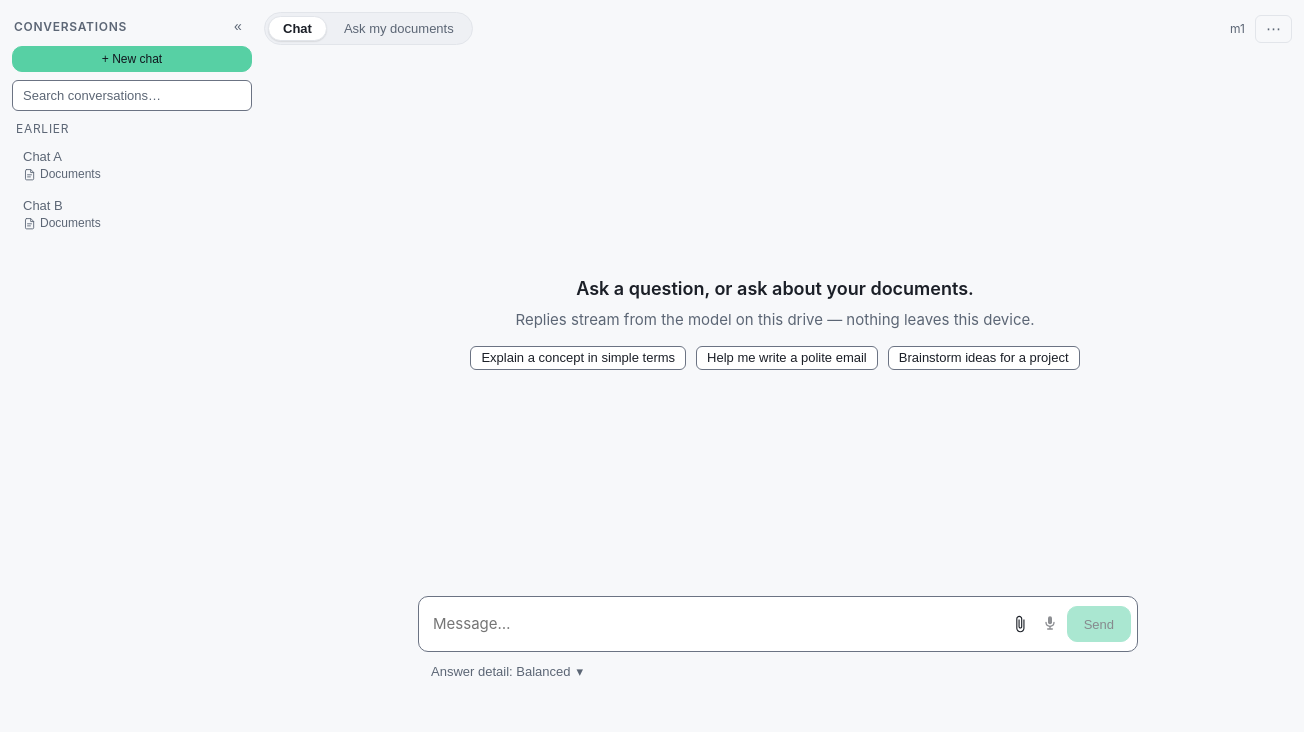
Test: ChatScreen — per-run store gating (SKA-6) › a run in another conversation NEVER renders its result row in the active conversation
Click the text "Chat A": x=42, y=156 x1=23 y1=149 x2=62 y2=164
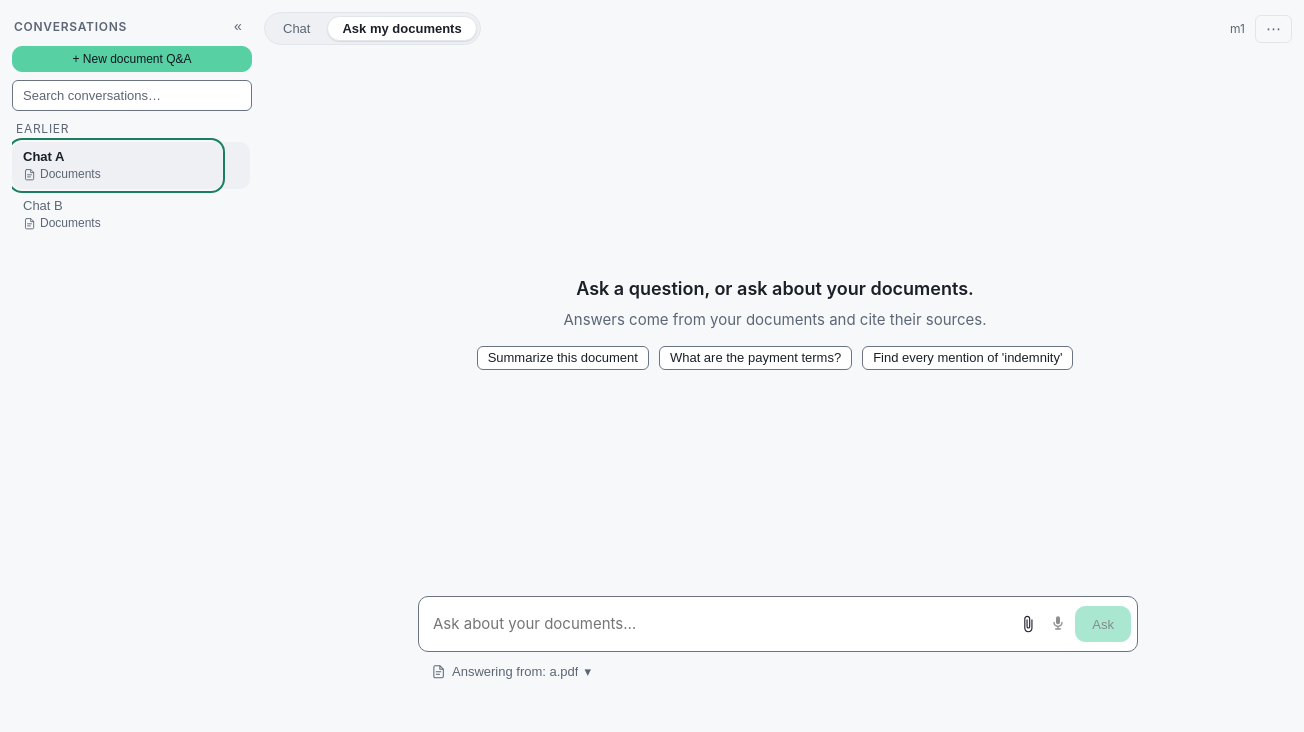
expect the text "Extracted 9 transactions." is not shown: met
Click the text "Chat B": x=43, y=206 x1=23 y1=198 x2=63 y2=213
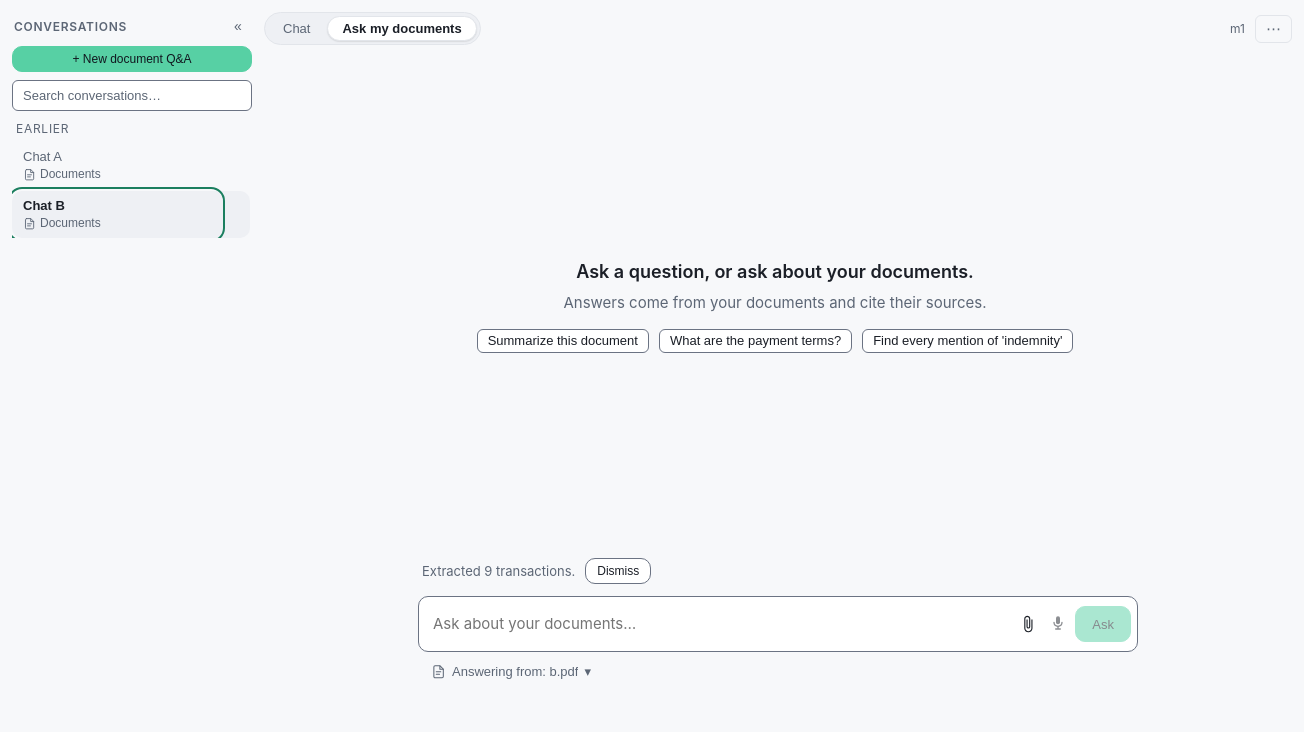
expect the text "Extracted 9 transactions." is shown: met, box x1=422 y1=563 x2=575 y2=579
